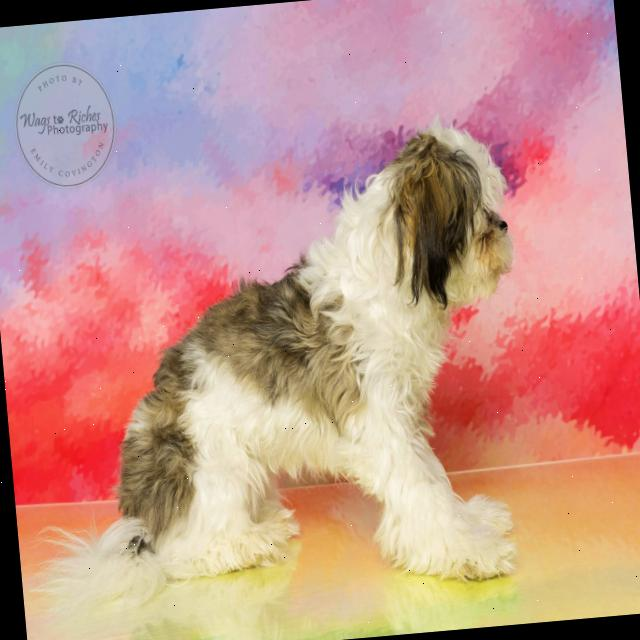shih_tzu_dog: (320, 111, 538, 368)
